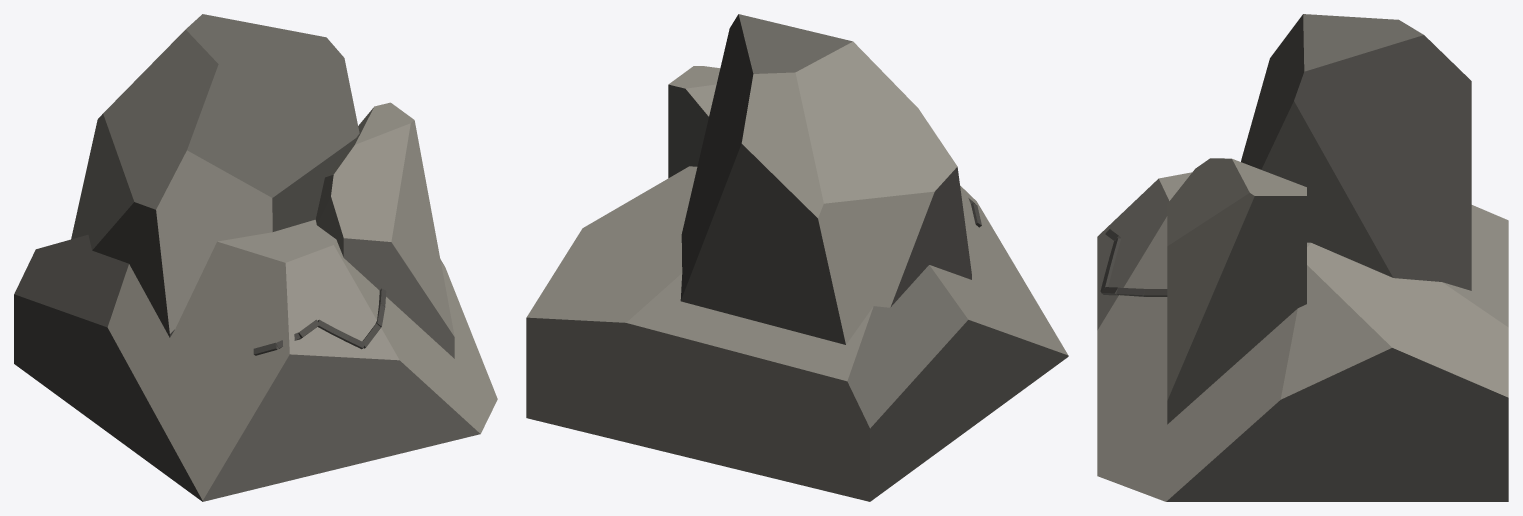
Rendered from rubble_c.fbx.
3 views of the same model, side by side, from view 1: azimuth 30°, elevation 25°; view 2: azimuth 150°, elevation 25°; view 3: azimuth 270°, elevation 25° (orthographic). The views are drawn at different scales.
Parts seen in each view (by area): view 1: rubble_c; view 2: rubble_c; view 3: rubble_c.
Boxes of the visible parts, x1,y1,x2,y2 form: rubble_c: (14, 14, 497, 501); rubble_c: (526, 14, 1068, 501); rubble_c: (1097, 14, 1508, 501).
Bounding box in the file's own units: 1 × 1 × 1.
